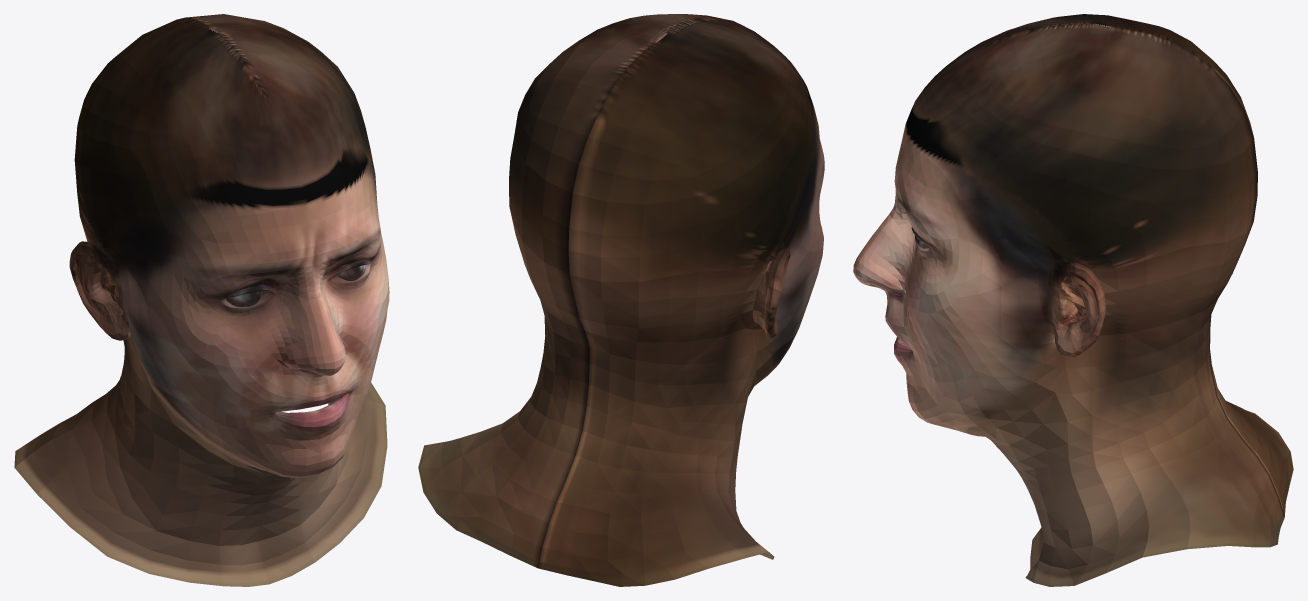
Rendered from face_video_frame0113.obj.
3 renders of one model, left to right at view 1: azimuth 30°, elevation 25°; view 2: azimuth 150°, elevation 25°; view 3: azimuth 270°, elevation 25°, orthographic.
Size of the model in its own units: 0.2173 by 0.327 by 0.2433.
Materials: 1 (1 with a texture image).
